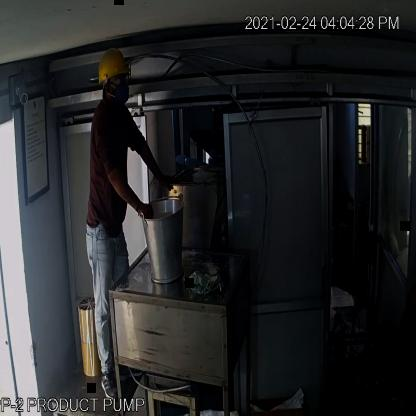helmet: (95, 42, 132, 88)
